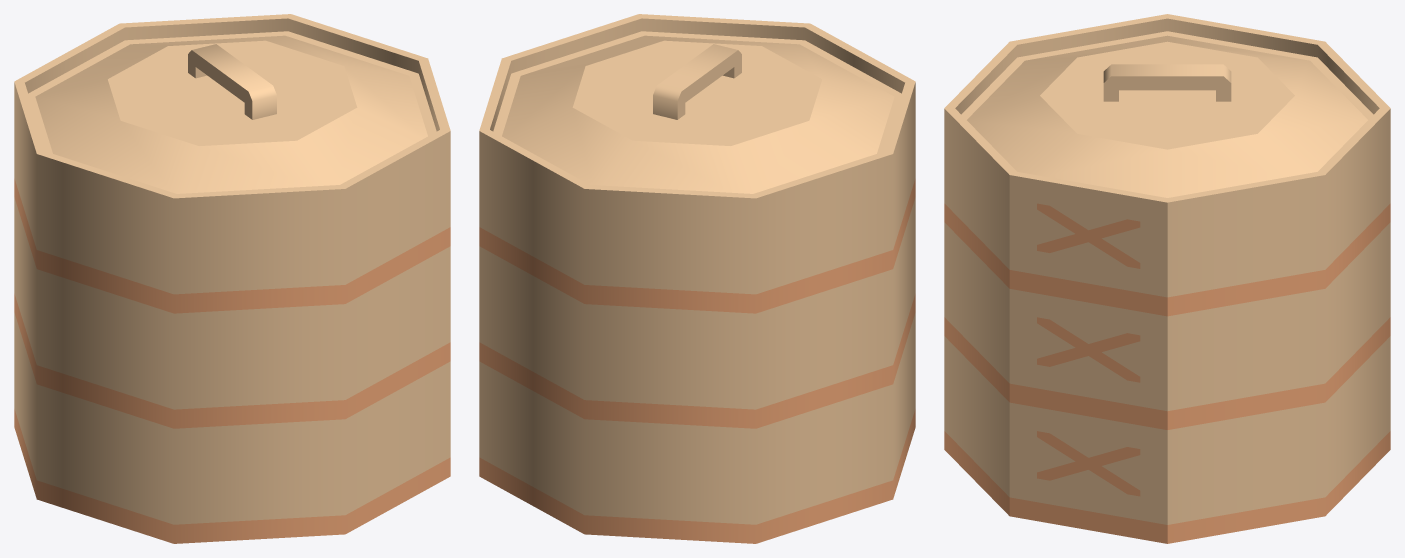
File: Steamer.glb
3 renders of one model, left to right at view 1: azimuth 30°, elevation 25°; view 2: azimuth 150°, elevation 25°; view 3: azimuth 270°, elevation 25°, orthographic.
Parts seen in each view (by area): view 1: Steamer; view 2: Steamer; view 3: Steamer.
Boxes of the visible parts, x1,y1,x2,y2 form: Steamer: (14, 14, 450, 543); Steamer: (479, 14, 915, 543); Steamer: (944, 14, 1390, 543).
Bounding box in the file's own units: 0.64 × 0.6 × 0.64.
